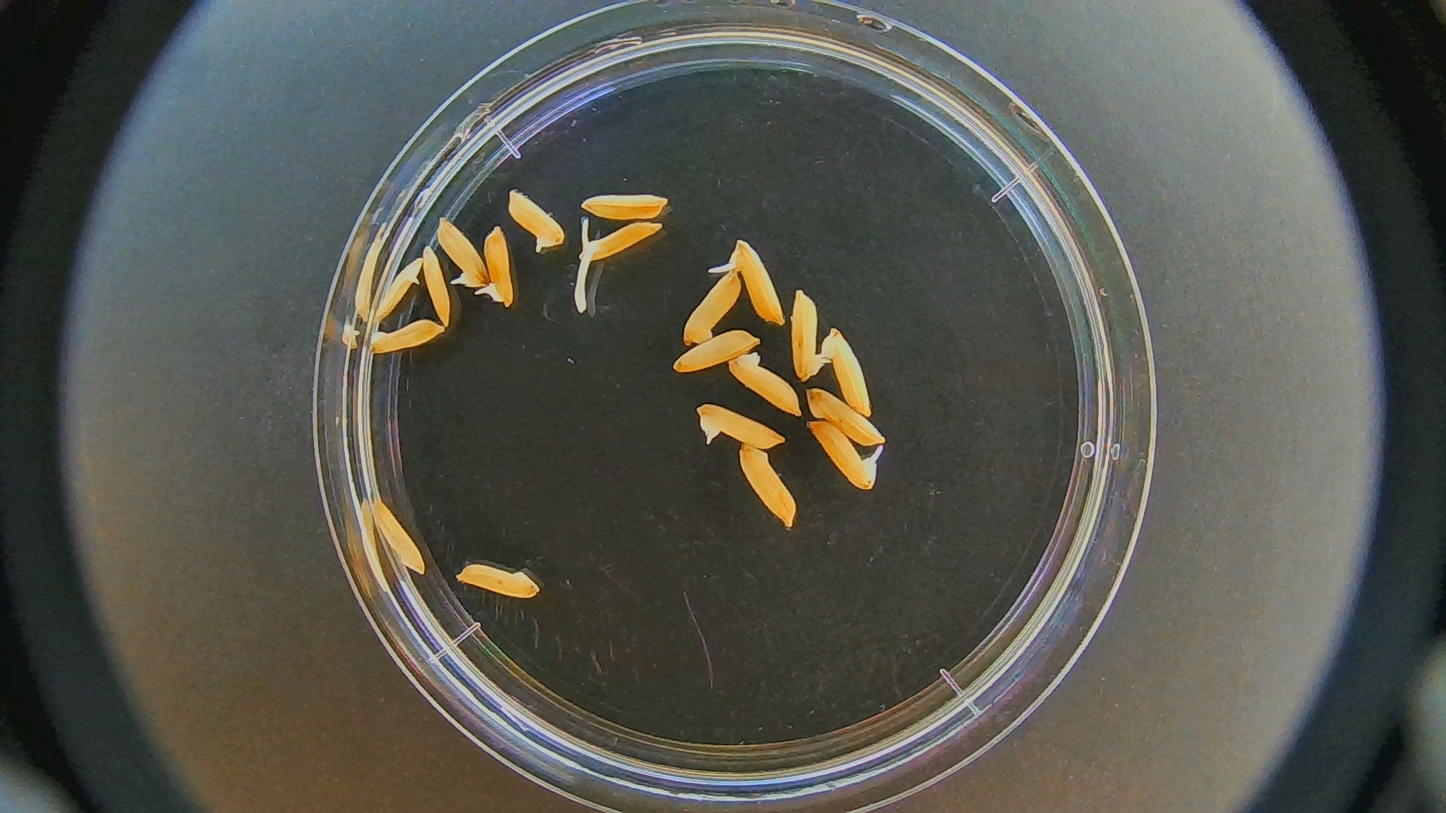no: (363, 492, 429, 579), (795, 387, 885, 449), (725, 348, 803, 419), (741, 446, 801, 527), (681, 272, 743, 346), (510, 184, 570, 254), (673, 331, 764, 377), (372, 255, 426, 330), (455, 556, 539, 602), (579, 184, 669, 225), (417, 247, 453, 332), (362, 322, 447, 357)
yes: (802, 419, 875, 486), (431, 209, 491, 289), (729, 241, 786, 324), (689, 402, 786, 449), (819, 334, 872, 415), (580, 219, 664, 265), (791, 293, 825, 393), (479, 222, 518, 309)
